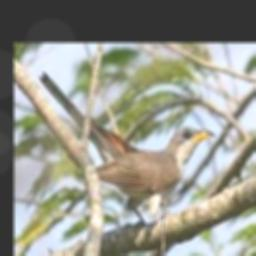Cuckoo: (40, 72, 216, 226)
